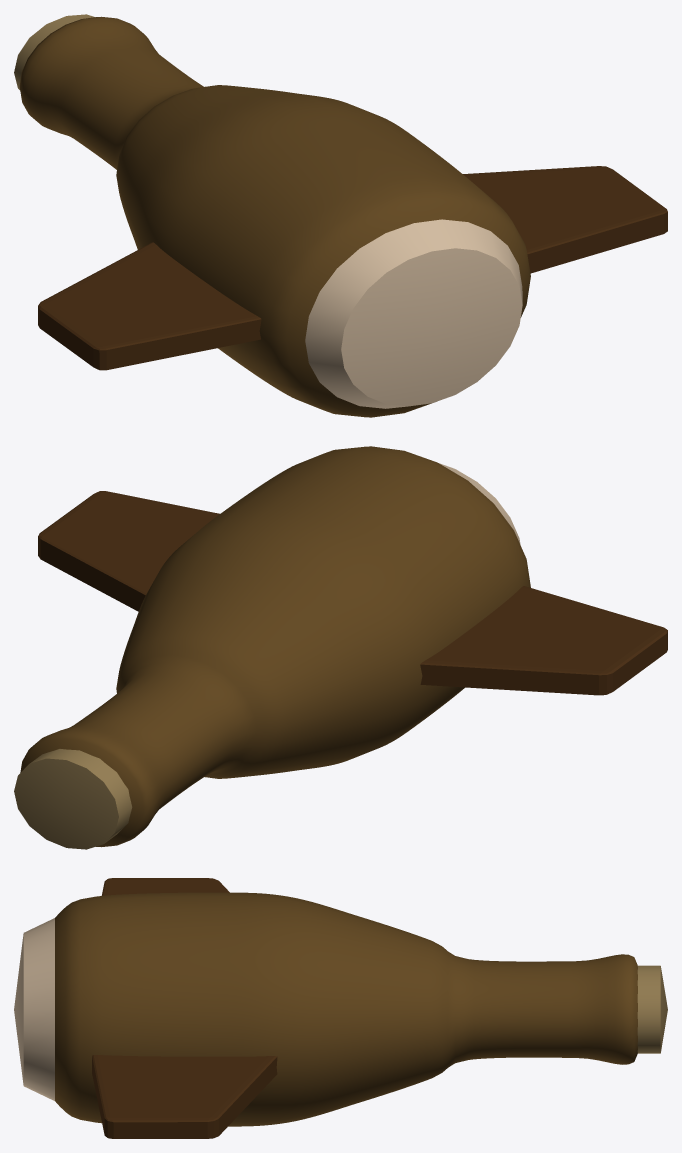
Rendered from rumbottle.glb.
3 renders of one model, top to bottom at view 1: azimuth 30°, elevation 25°; view 2: azimuth 150°, elevation 25°; view 3: azimuth 270°, elevation 25°, orthographic. The views are drawn at different scales.
Visible parts, largest first — view 1: bottle, base, fin, fin.001, cork; view 2: bottle, fin, fin.001, cork; view 3: bottle, fin.001, base, cork, fin.
Part boxes in pixels (box(x1,y1,x2,y2)): bottle: box(19, 16, 530, 417); base: box(305, 219, 522, 408); fin: box(38, 242, 261, 370); fin.001: box(463, 166, 667, 273); cork: box(14, 14, 94, 90); bottle: box(20, 446, 530, 847); fin: box(420, 586, 667, 695); fin.001: box(38, 491, 219, 611); cork: box(14, 749, 132, 849); bottle: box(55, 892, 637, 1126); fin.001: box(92, 1055, 277, 1138); base: box(14, 918, 54, 1100); cork: box(637, 965, 667, 1053); fin: box(101, 878, 229, 895).
Bounding box in the file's own units: 24 × 9.28 × 27.2.
